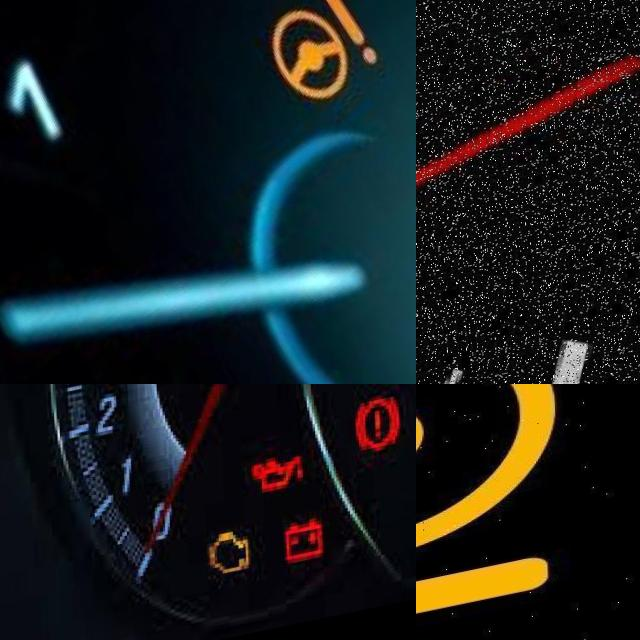Electronic Power Steering: (261, 0, 378, 128)
Electronic Power Steering Warning: (416, 384, 559, 640)
